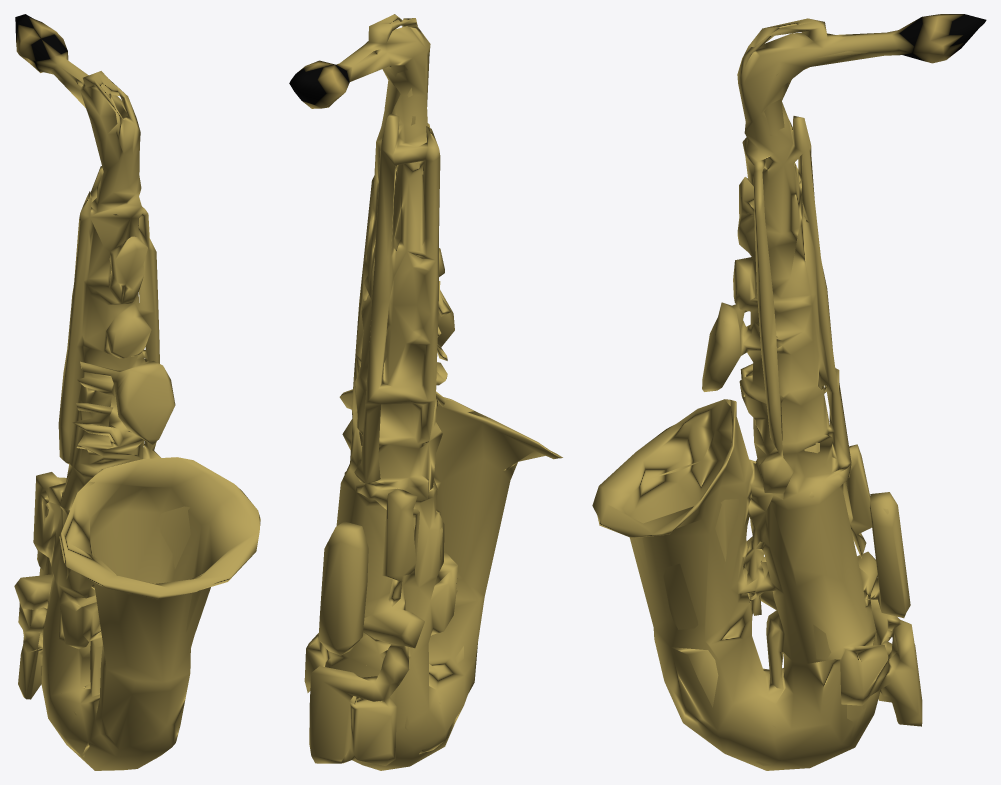
File: gen3d-saxophone-lod0.glb
3 renders of one model, left to right at view 1: azimuth 30°, elevation 25°; view 2: azimuth 150°, elevation 25°; view 3: azimuth 270°, elevation 25°, orthographic. The views are drawn at different scales.
Parts seen in each view (by area): view 1: part_0; view 2: part_0; view 3: part_0.
Part boxes in pixels (x1,y1,x2,y2): part_0: (14,14,260,770); part_0: (289,14,562,770); part_0: (592,14,986,770).
Bounding box in the file's own units: 0.2982 × 0.9993 × 0.4755.
